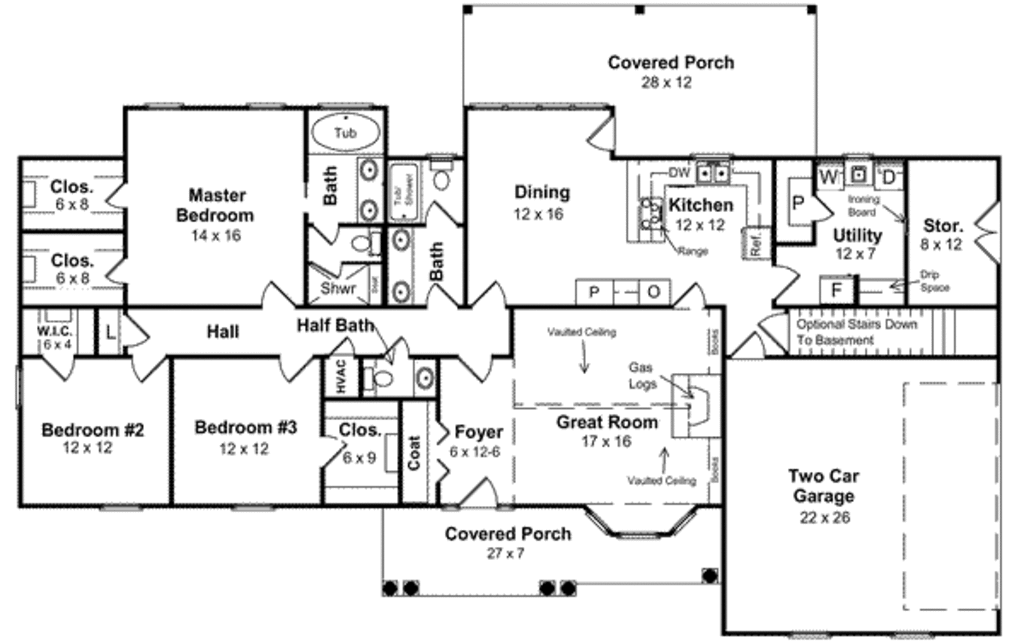door: (969, 196, 1000, 268), (454, 345, 498, 391), (722, 329, 772, 368), (579, 109, 621, 153), (421, 200, 467, 237), (456, 475, 504, 509), (317, 435, 351, 477), (274, 350, 314, 385), (771, 260, 802, 304), (422, 278, 465, 309), (470, 279, 511, 311), (100, 176, 133, 215), (124, 311, 156, 351), (253, 282, 297, 311), (674, 284, 713, 314), (810, 190, 839, 230), (37, 354, 78, 382), (100, 254, 131, 289), (132, 354, 166, 384)
large_sink: (349, 223, 388, 260), (359, 358, 396, 396)
small_sink: (386, 224, 416, 307), (353, 157, 387, 223), (413, 349, 442, 398)
stairs: (784, 303, 965, 359)
tub: (303, 107, 387, 157), (387, 157, 424, 223)
twin_sink: (692, 162, 739, 191)
window: (587, 502, 700, 543), (465, 101, 610, 118), (136, 99, 198, 118), (317, 94, 374, 113), (239, 98, 289, 118), (225, 499, 277, 515), (91, 498, 145, 513)
